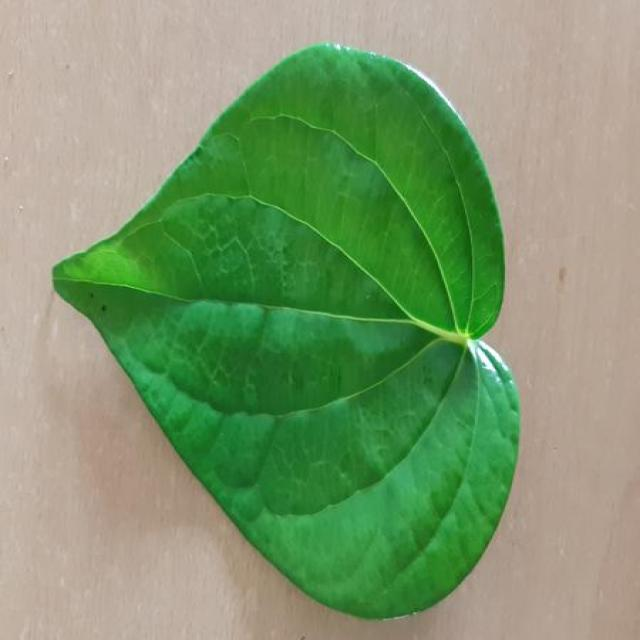betel: (53, 45, 518, 618)
